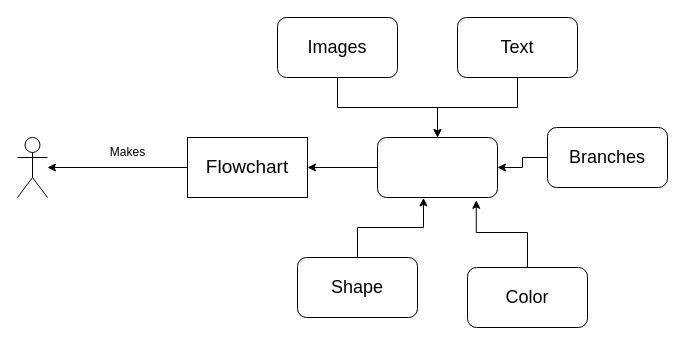
The diagram is 685 pixels wide and 345 high, and some of its shapes have lost their labels. Each missing label, with the box of its shape:
Nodes: (376, 136, 498, 198)
User: (16, 136, 48, 198)
